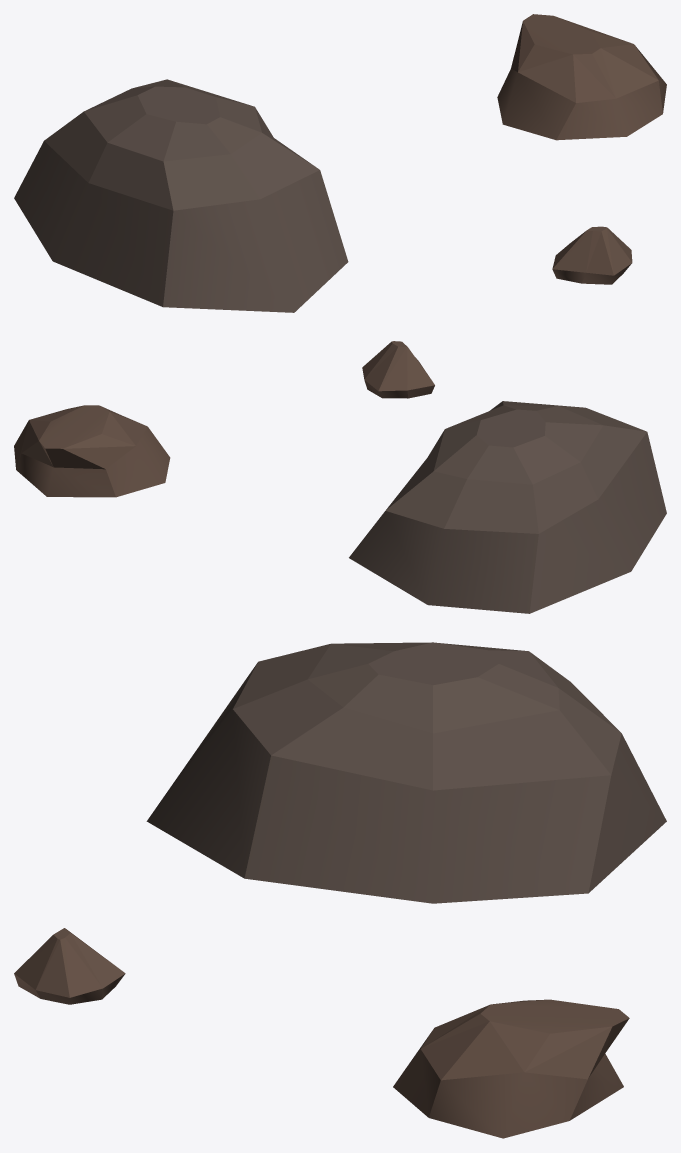
Rendered from Rock #5.FBX.
3 views of the same model, one above another, from view 1: azimuth 30°, elevation 25°; view 2: azimuth 150°, elevation 25°; view 3: azimuth 270°, elevation 25° (orthographic). The views are drawn at different scales.
Visible parts, largest first — view 1: Box004, Box002, Box003; view 2: Box004, Box002, Box003; view 3: Box004, Box002, Box003.
Boxes of the visible parts, <box> form: Box004: <box>14,79,348,312</box>; Box002: <box>497,14,666,140</box>; Box003: <box>552,226,632,284</box>; Box004: <box>349,401,666,613</box>; Box002: <box>14,405,170,497</box>; Box003: <box>362,341,434,398</box>; Box004: <box>146,642,666,903</box>; Box002: <box>393,999,629,1138</box>; Box003: <box>14,928,125,1004</box>.
Bounding box in the file's own units: 39.38 × 7.3 × 27.4.
